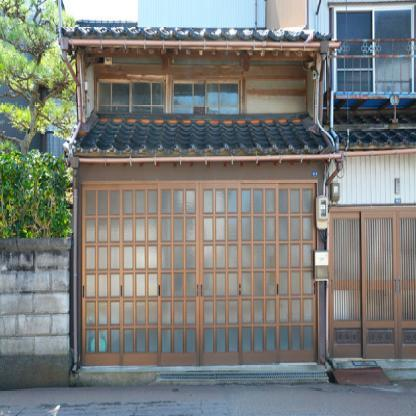Building Outline: (58, 25, 342, 366)
Door: (81, 185, 318, 365)
Floor Slab: (77, 157, 326, 165)
Ground Floor: (77, 165, 326, 365)
Roof: (62, 111, 333, 158), (60, 25, 333, 42)
Top Floor: (77, 40, 316, 157)
Window: (97, 77, 166, 114), (172, 79, 240, 114)
